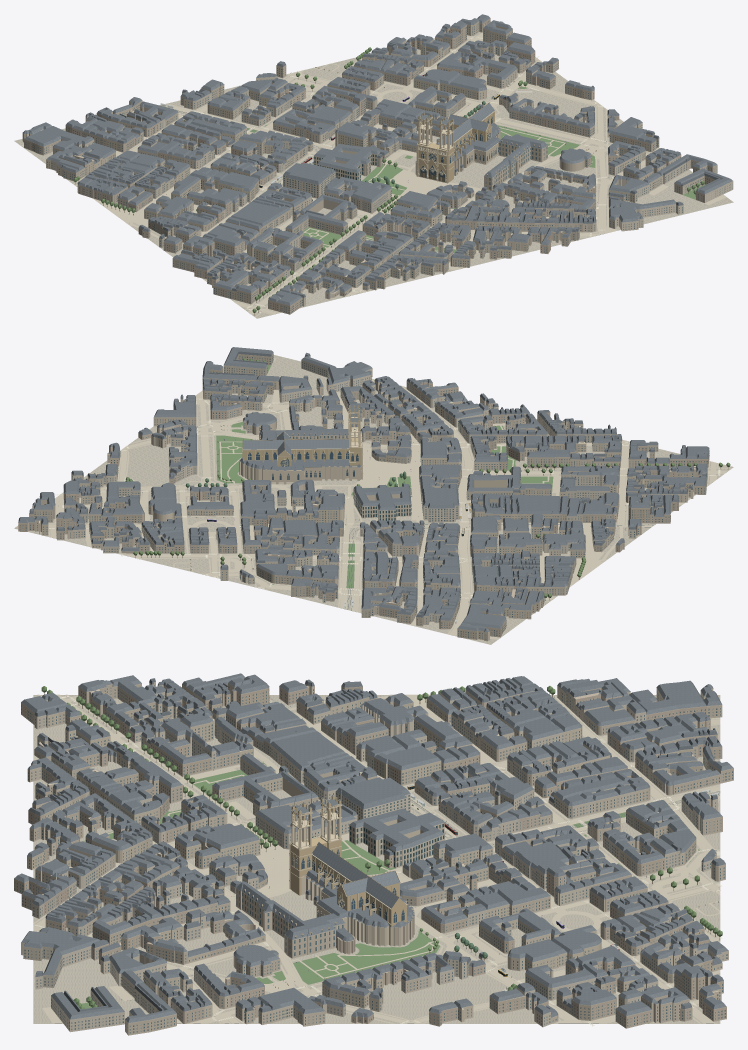
File: opera-cathedrale.glb
3 renders of one model, top to bottom at view 1: azimuth 30°, elevation 25°; view 2: azimuth 150°, elevation 25°; view 3: azimuth 270°, elevation 25°, orthographic. The views are drawn at different scales.
Parts seen in each view (by area): view 1: Matériau 12, Matériau 0, Matériau 16, Matériau 8, Matériau 1, Matériau 14, Matériau 13, Matériau 10, Matériau 11, Matériau 9, Matériau 18, Matériau 4 (+3 smaller); view 2: Matériau 12, Matériau 1, Matériau 0, Matériau 14, Matériau 8, Matériau 16, Matériau 13, Matériau 10, Matériau 11, Matériau 9, Matériau 4, Matériau 18 (+5 smaller); view 3: Matériau 12, Matériau 0, Matériau 16, Matériau 8, Matériau 14, Matériau 1, Matériau 13, Matériau 11, Matériau 10, Matériau 9, Matériau 4, Matériau 18 (+5 smaller).
Boxes of the visible parts, x1,y1,x2,y2 form: Matériau 12: (23, 14, 732, 305); Matériau 0: (14, 32, 733, 318); Matériau 16: (58, 25, 717, 304); Matériau 8: (72, 37, 733, 306); Matériau 1: (21, 32, 726, 317); Matériau 14: (22, 21, 676, 300); Matériau 13: (24, 18, 690, 314); Matériau 10: (24, 21, 732, 312); Matériau 11: (23, 19, 732, 314); Matériau 9: (27, 24, 732, 312); Matériau 18: (416, 110, 498, 183); Matériau 4: (247, 86, 705, 252); Matériau 12: (18, 347, 709, 632); Matériau 1: (16, 358, 731, 639); Matériau 0: (14, 355, 733, 644); Matériau 14: (35, 378, 693, 641); Matériau 8: (64, 353, 687, 624); Matériau 16: (32, 354, 707, 623); Matériau 13: (18, 380, 709, 637); Matériau 10: (19, 354, 709, 639); Matériau 11: (18, 354, 709, 640); Matériau 9: (19, 356, 709, 639); Matériau 4: (216, 365, 553, 587); Matériau 18: (242, 408, 363, 482); Matériau 12: (14, 673, 733, 1022); Matériau 0: (33, 695, 720, 1023); Matériau 16: (29, 679, 733, 1035); Matériau 8: (21, 684, 728, 1032); Matériau 14: (27, 682, 725, 1026); Matériau 1: (33, 694, 720, 1023); Matériau 13: (14, 679, 726, 1028); Matériau 11: (14, 679, 733, 1035); Matériau 10: (14, 685, 732, 1033); Matériau 9: (18, 685, 732, 1033); Matériau 4: (81, 762, 699, 1023); Matériau 18: (289, 799, 407, 924).
Bounding box in the file's own units: 720 × 82.07 × 629.
227 materials, 106 textured.
